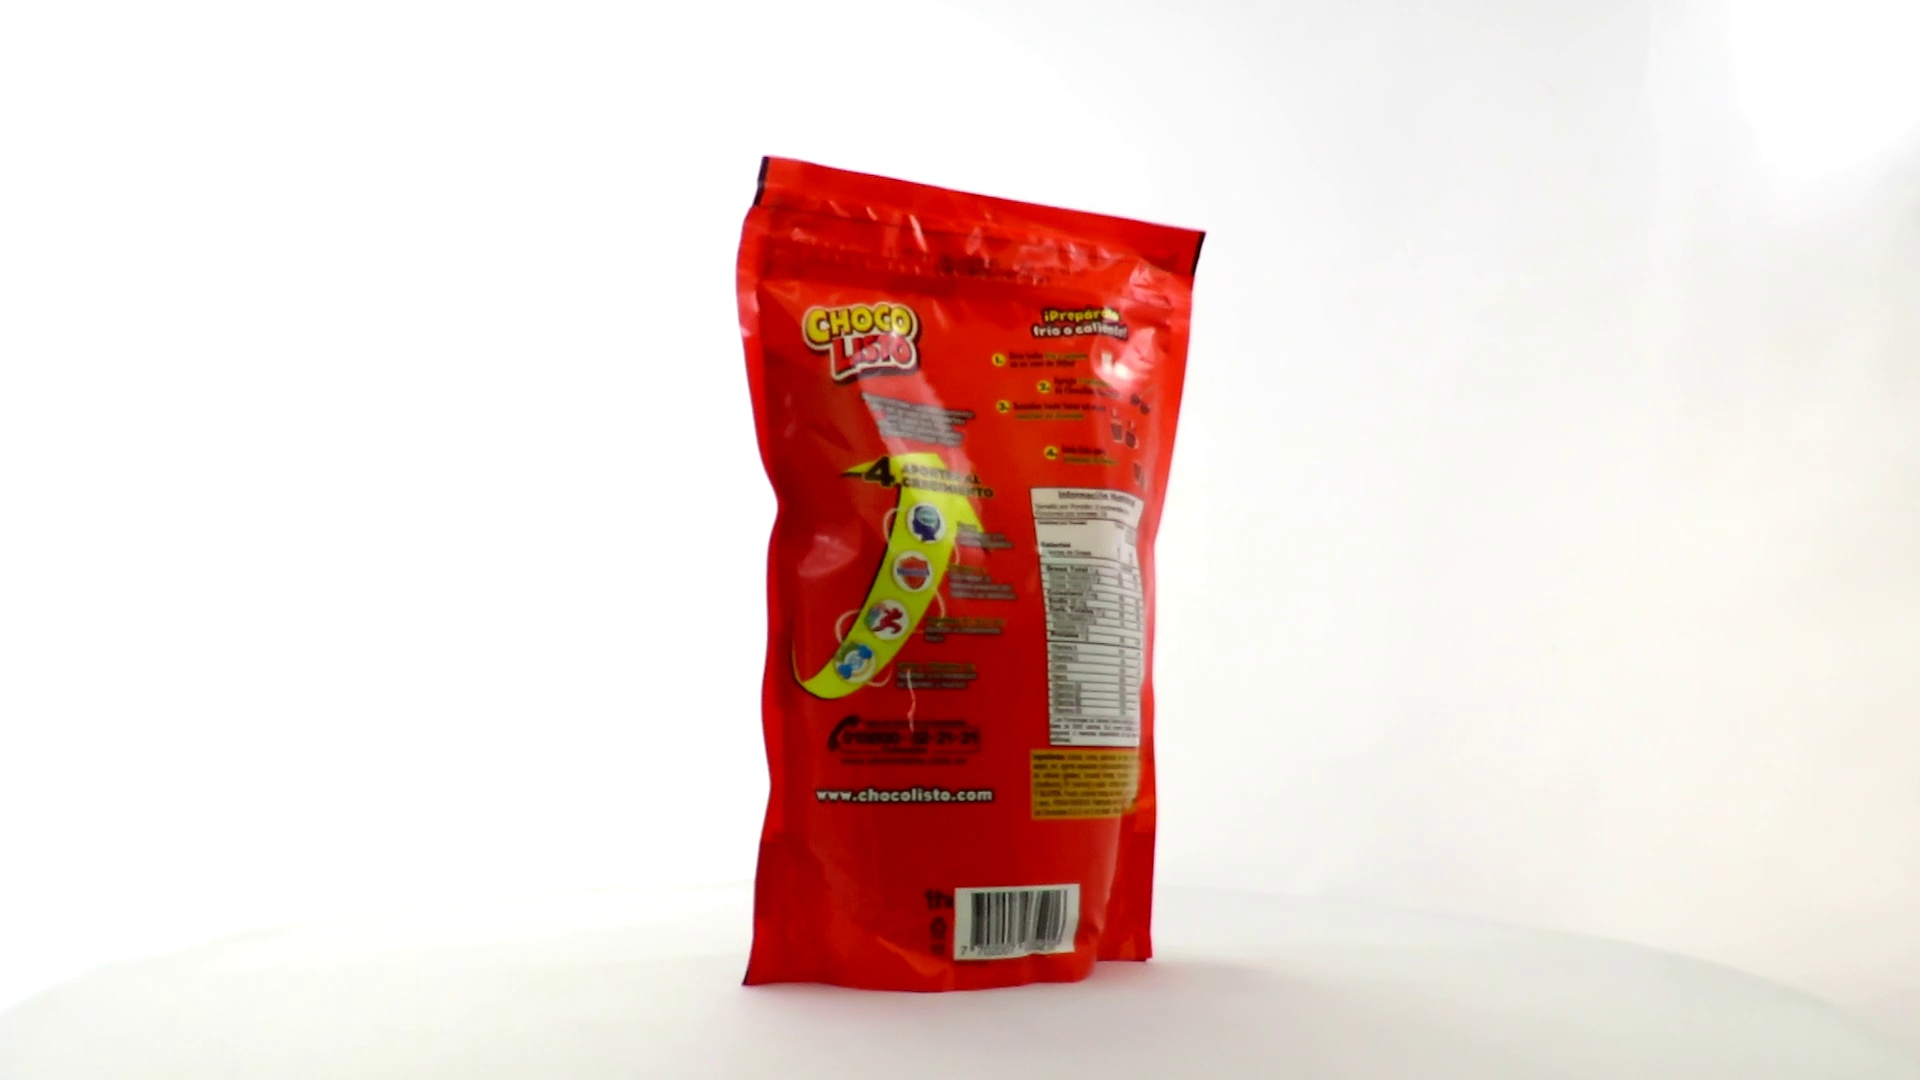COL0170103DYP36000: (731, 152, 1212, 1000)
